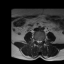CCS_severe_stenosis: (38, 39, 40, 45)
LFS_stenosis: (42, 37, 44, 43)
LLS_stenosis: (40, 39, 42, 44)
RFS_normal: (34, 38, 36, 43)
RLS_normal: (36, 39, 38, 44)
